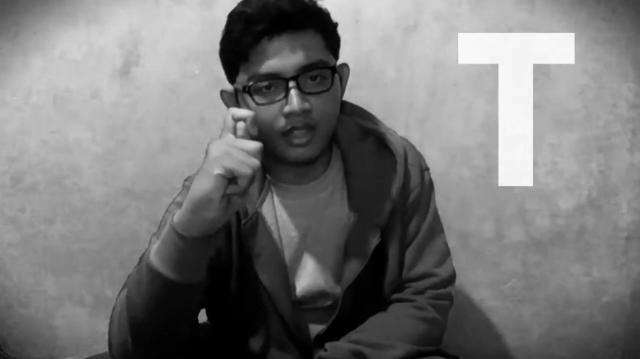T: (186, 107, 264, 233)
